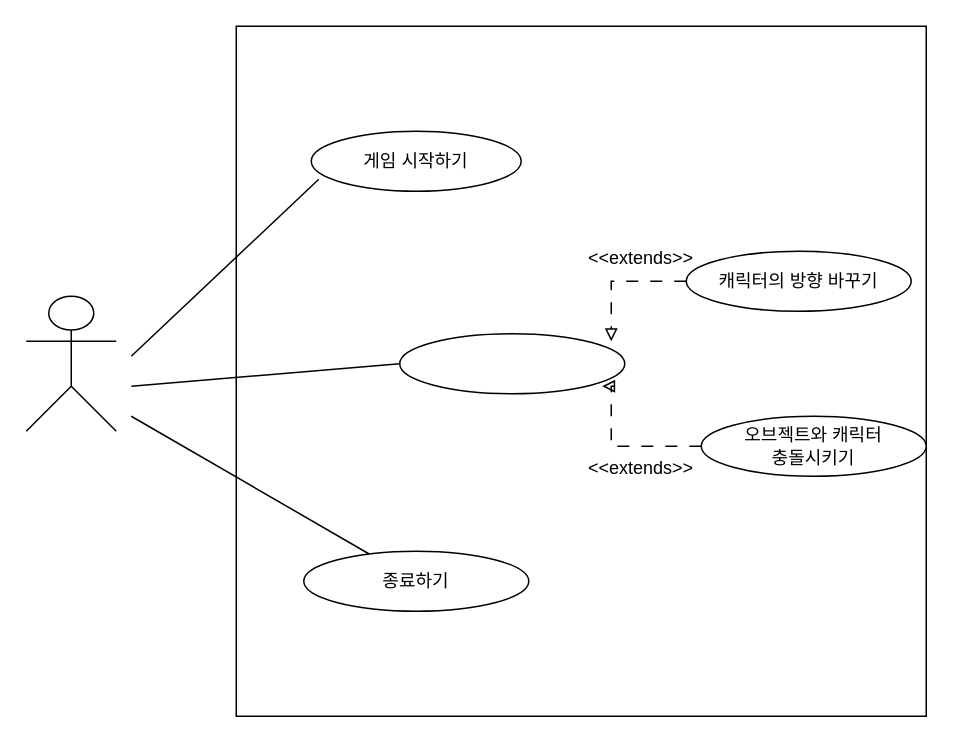
This 953x743 diagram has some shape labels left out. The centre of each missing label's shape, as x and y in pixels:
게임 플레이하기: (511,363)
플레이어: (70,363)
